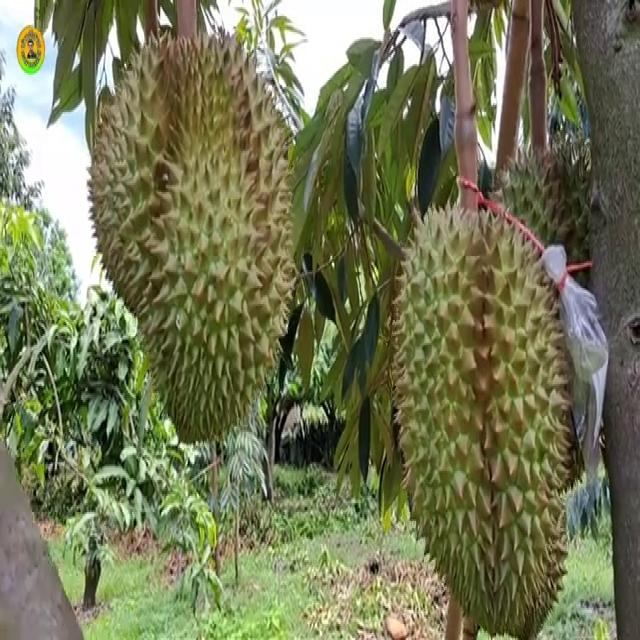durian: (80, 24, 300, 450), (386, 193, 579, 638)
